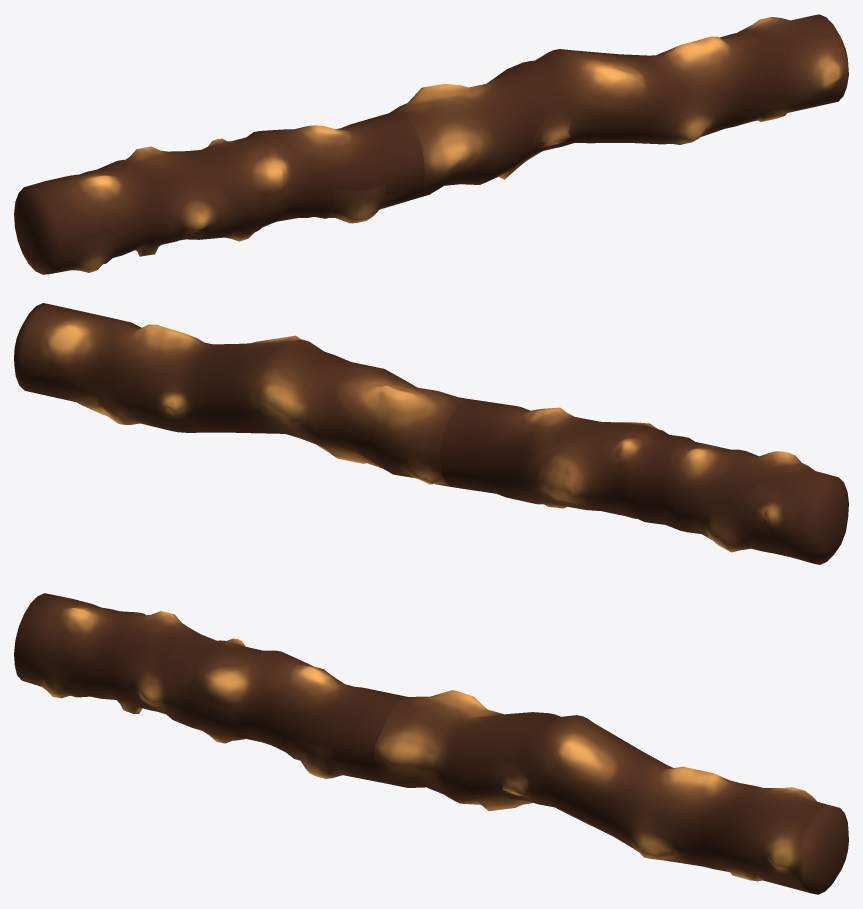
Rendered from koeda hashigo-1.fbx.
3 renders of one model, top to bottom at view 1: azimuth 30°, elevation 25°; view 2: azimuth 150°, elevation 25°; view 3: azimuth 330°, elevation 25°, orthographic.
Parts seen in each view (by area): view 1: pCylinder12; view 2: pCylinder12; view 3: pCylinder12.
Part boxes in pixels (box(x1,y1,x2,y2)): pCylinder12: box(14, 14, 848, 274); pCylinder12: box(14, 303, 848, 564); pCylinder12: box(14, 593, 848, 894).
Bounding box in the file's own units: 49.27 × 6.66 × 6.06.
